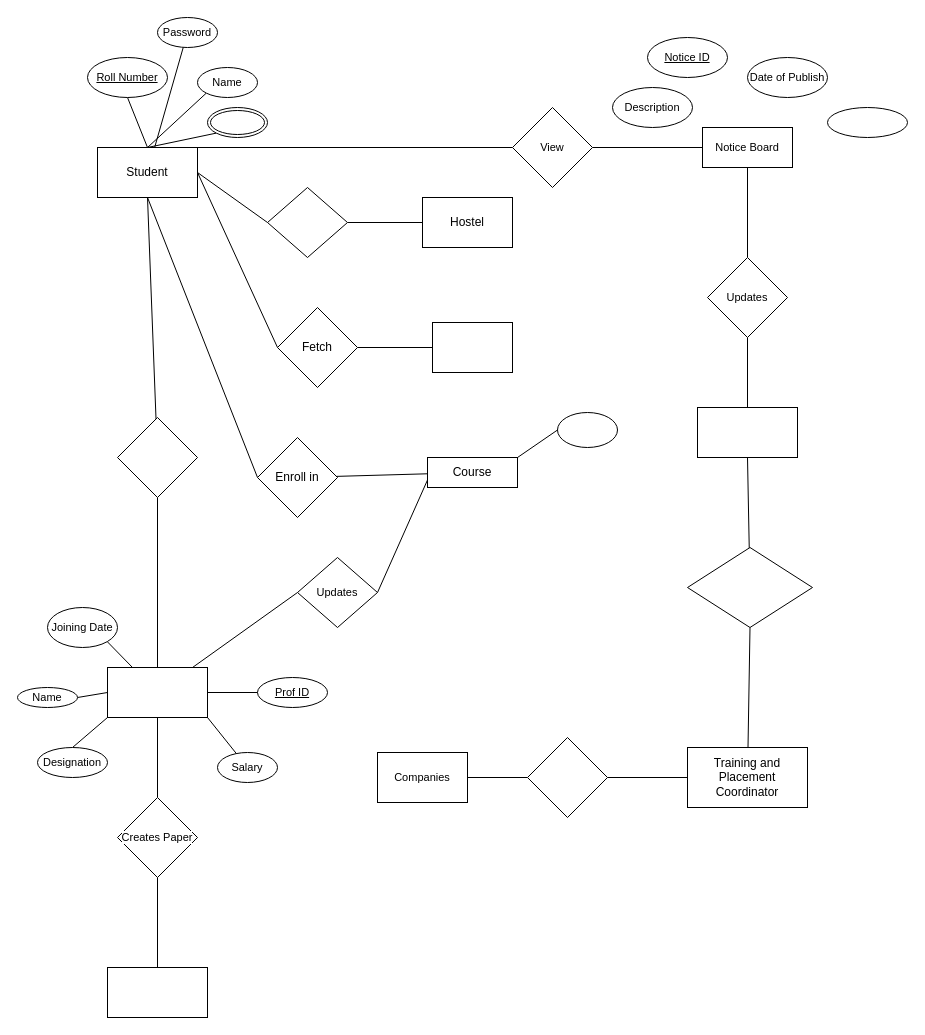
Image size: 925x1035. Some labels were removed from this diagram. Each missing label, with the centre of its shape:
"Apply for" goes at point 307,222.
"Course ID" goes at point 587,430.
"Examination Section" goes at point 157,992.
"Helping Staff" goes at point 747,432.
"Phn no" goes at point 237,122.
"Professor" goes at point 157,692.
"Provides Information" goes at point 749,587.
"Registers" goes at point 567,777.
"Result Card" goes at point 472,347.
"Subject" goes at point 867,122.
"Teaches" goes at point 157,457.
